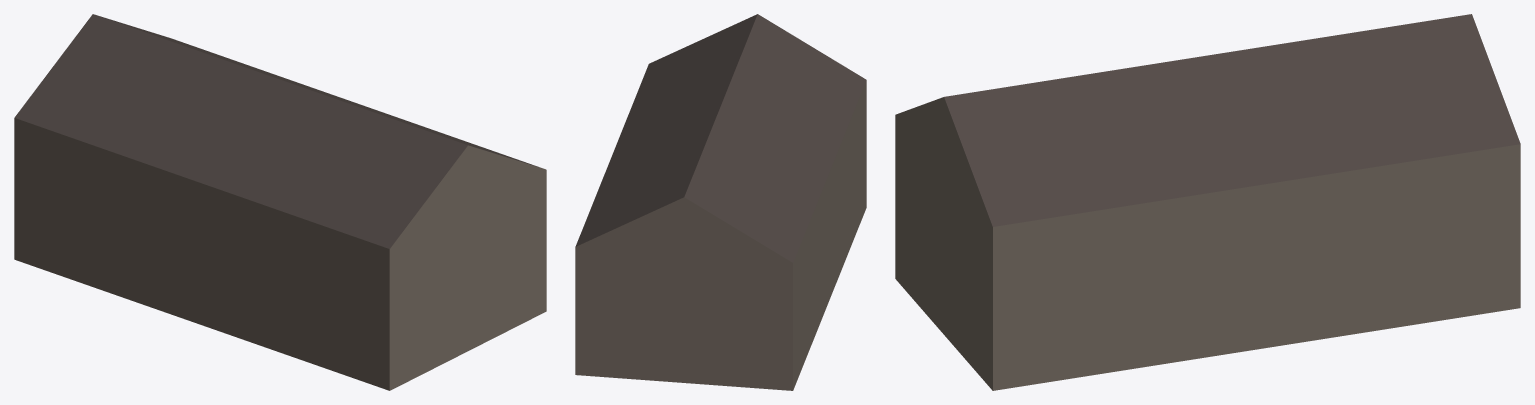
3 renders of one model, left to right at view 1: azimuth 30°, elevation 25°; view 2: azimuth 150°, elevation 25°; view 3: azimuth 270°, elevation 25°, orthographic. The views are drawn at different scales.
Parts seen in each view (by area): view 1: HP-w372180402; view 2: HP-w372180402; view 3: HP-w372180402.
Boxes of the visible parts, x1,y1,x2,y2 form: HP-w372180402: [14, 14, 546, 390]; HP-w372180402: [575, 14, 866, 390]; HP-w372180402: [895, 14, 1520, 390].
Bounding box in the file's own units: 22.97 × 13.06 × 31.12.
